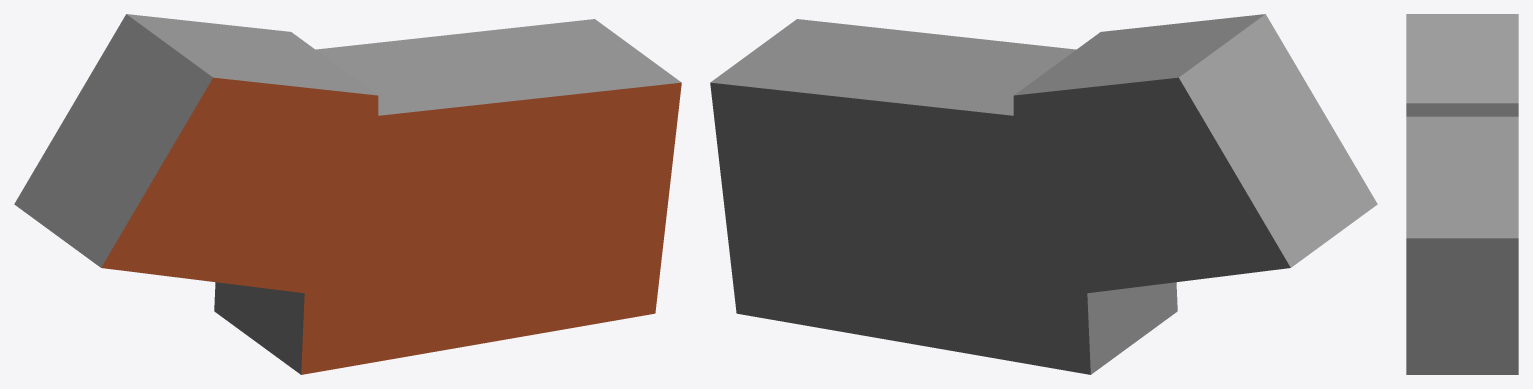
Rendered from construction_0747_assumed_A_Casa_h6m.obj.
The picture shows the model from 3 angles, left to right: view 1: azimuth 30°, elevation 25°; view 2: azimuth 150°, elevation 25°; view 3: azimuth 270°, elevation 25°; orthographic projection. The views are drawn at different scales.
Visible parts, largest first — view 1: construction_0747_assumed_A_Casa; view 2: construction_0747_assumed_A_Casa; view 3: construction_0747_assumed_A_Casa.
Boxes of the visible parts, box(x1,y1,x2,y2) form: construction_0747_assumed_A_Casa: box(14, 14, 681, 374); construction_0747_assumed_A_Casa: box(710, 14, 1377, 374); construction_0747_assumed_A_Casa: box(1406, 14, 1518, 374).
Size of the model in its own units: 23.14 by 13.09 by 6.
